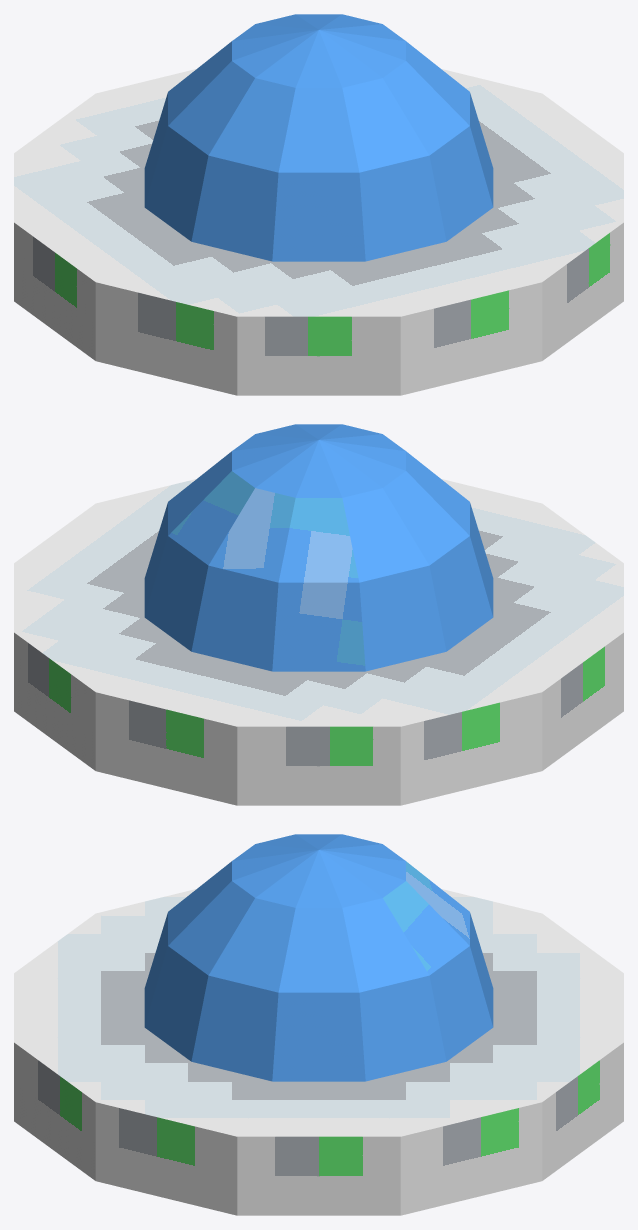
The model's file is ufo.gltf.
3 renders of one model, top to bottom at view 1: azimuth 30°, elevation 25°; view 2: azimuth 150°, elevation 25°; view 3: azimuth 270°, elevation 25°, orthographic.
Visible parts, largest first — view 1: cylinder, sphere; view 2: cylinder, sphere; view 3: cylinder, sphere.
Part boxes in pixels (<box>): cylinder: <box>14,69,623,395</box>; sphere: <box>144,14,493,261</box>; cylinder: <box>14,479,623,805</box>; sphere: <box>144,424,493,671</box>; cylinder: <box>14,889,623,1215</box>; sphere: <box>144,834,493,1081</box>.
Bounding box in the file's own units: 0.875 × 0.5 × 0.875.
Materials: 2 (2 with a texture image).
